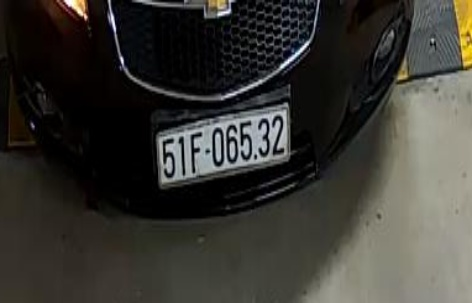plate: (149, 101, 294, 195)
